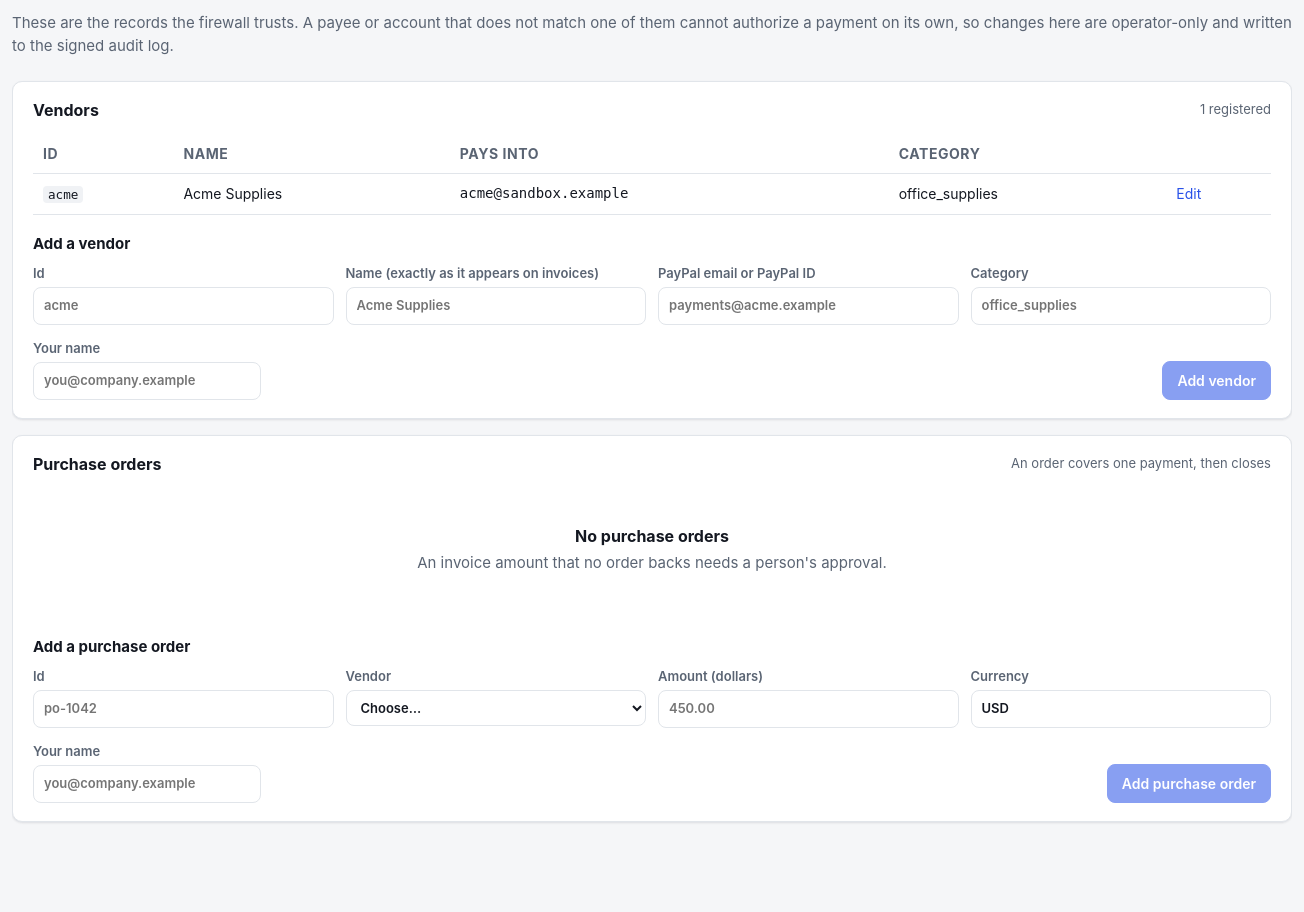
registry: changing where a vendor is paid is a deliberate step › a rejected change shows the server's reason
Expected: the cell "Acme Supplies" is shown, left=173, top=174, right=450, bottom=214
In the field with placeholder "acme" below "Name (exactly as it appears on invoices)": (183, 306) left=33, top=287, right=334, bottom=325, type "beta"
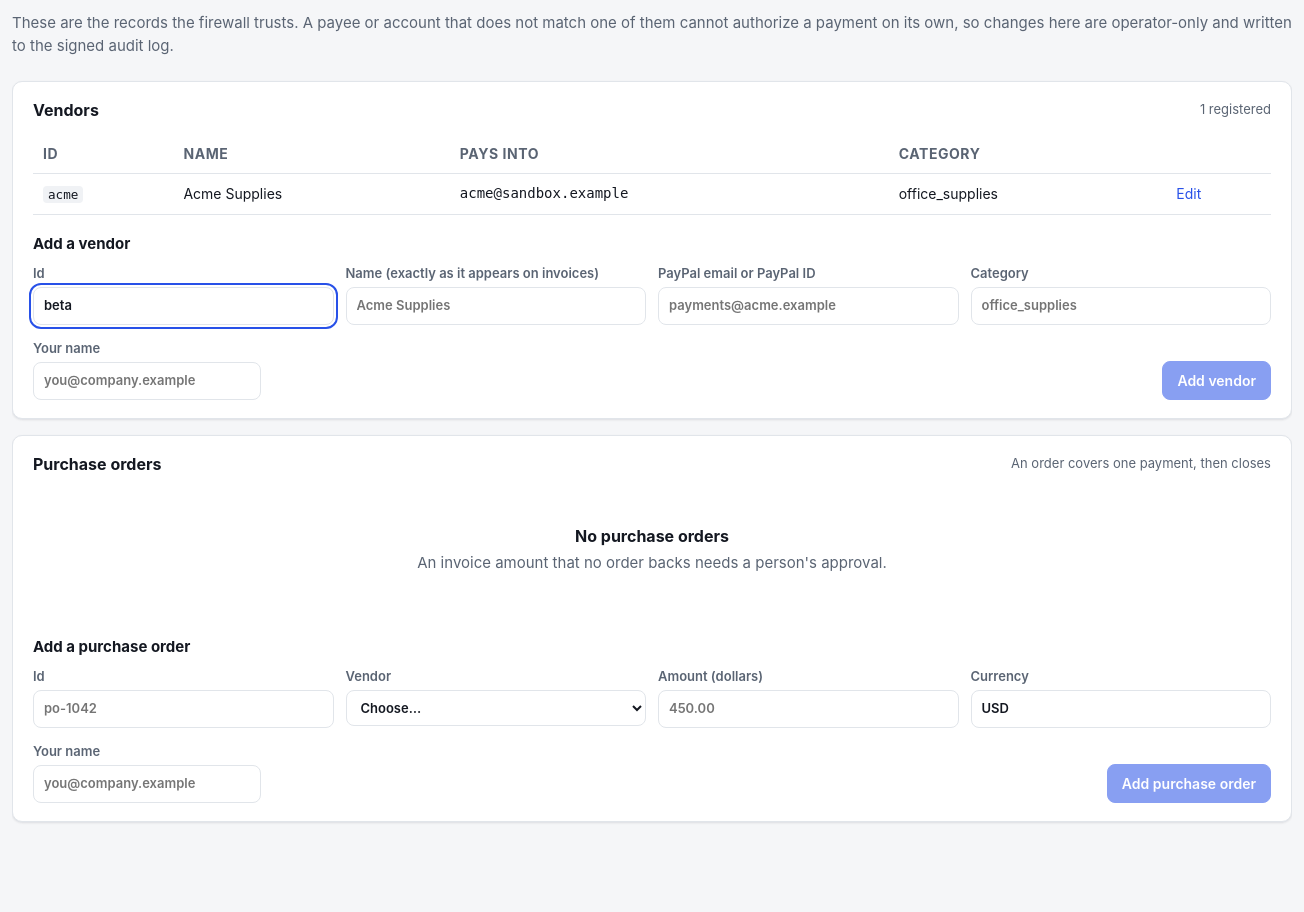
In the field with placeholder "Acme Supplies": (496, 306) left=346, top=287, right=646, bottom=325, type "Beta"
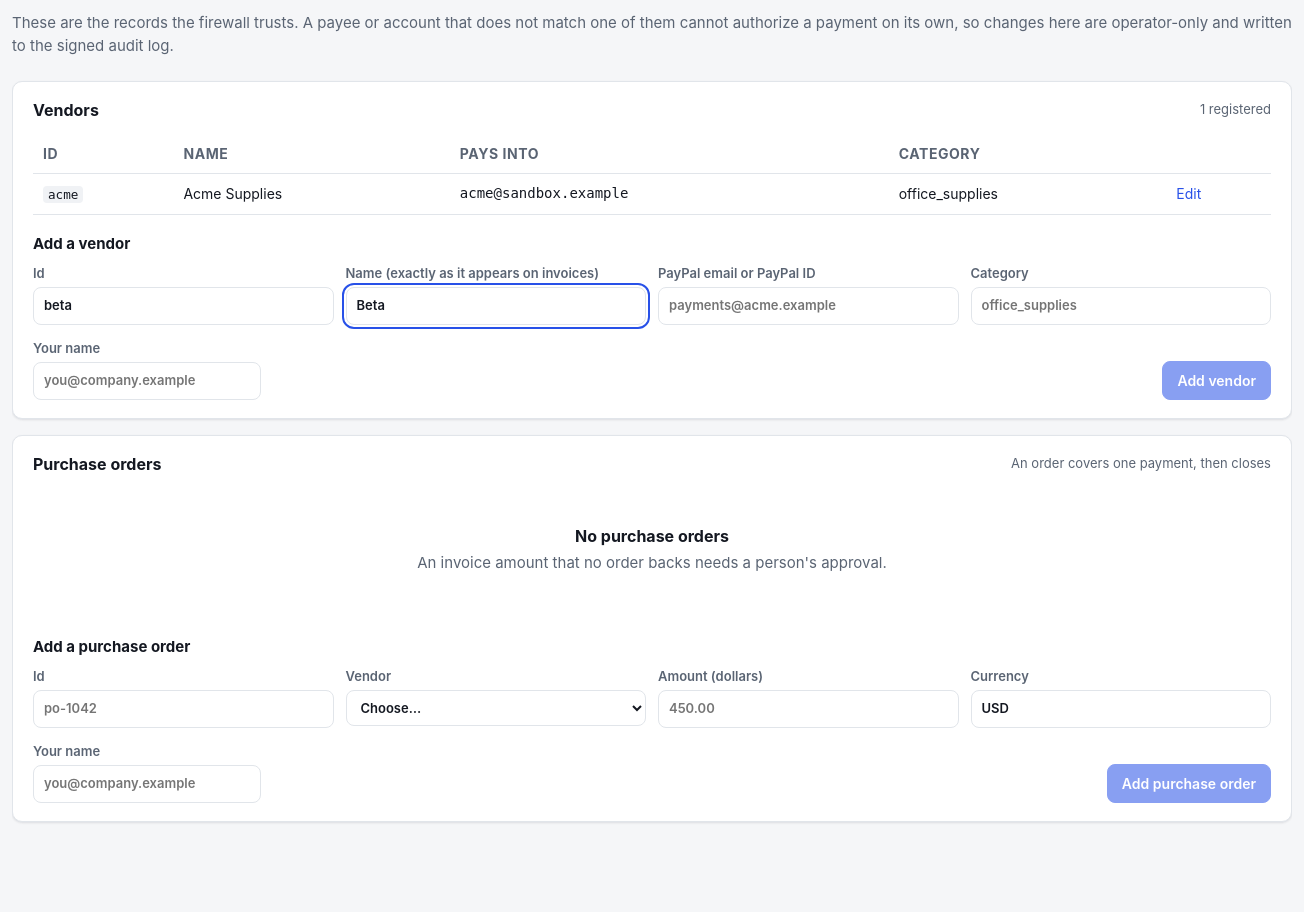
In the field with placeholder "payments@acme.example": (808, 306) left=658, top=287, right=958, bottom=325, type "nope"
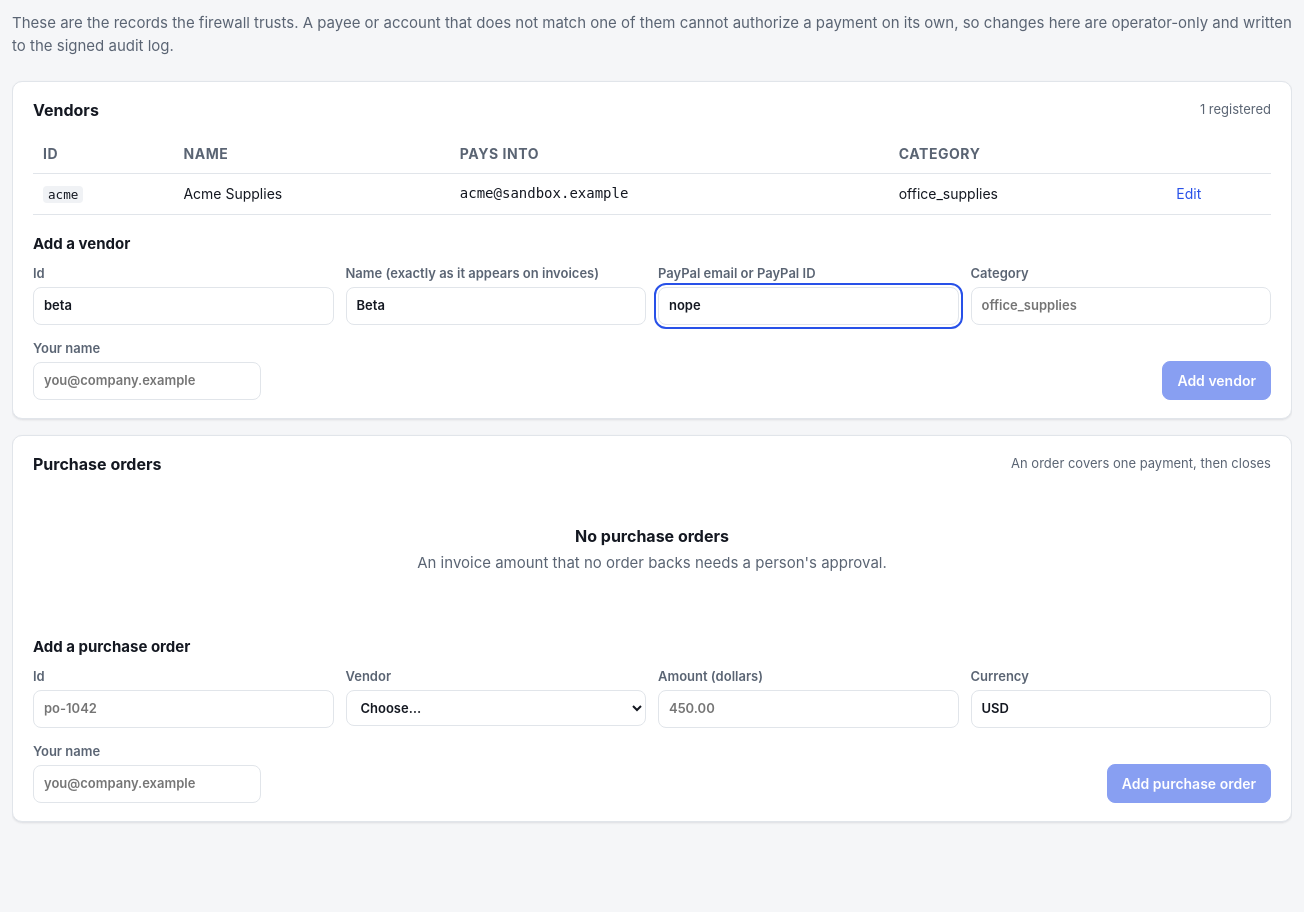
In the field with placeholder "office_supplies": (1121, 306) left=970, top=287, right=1271, bottom=325, type "software"
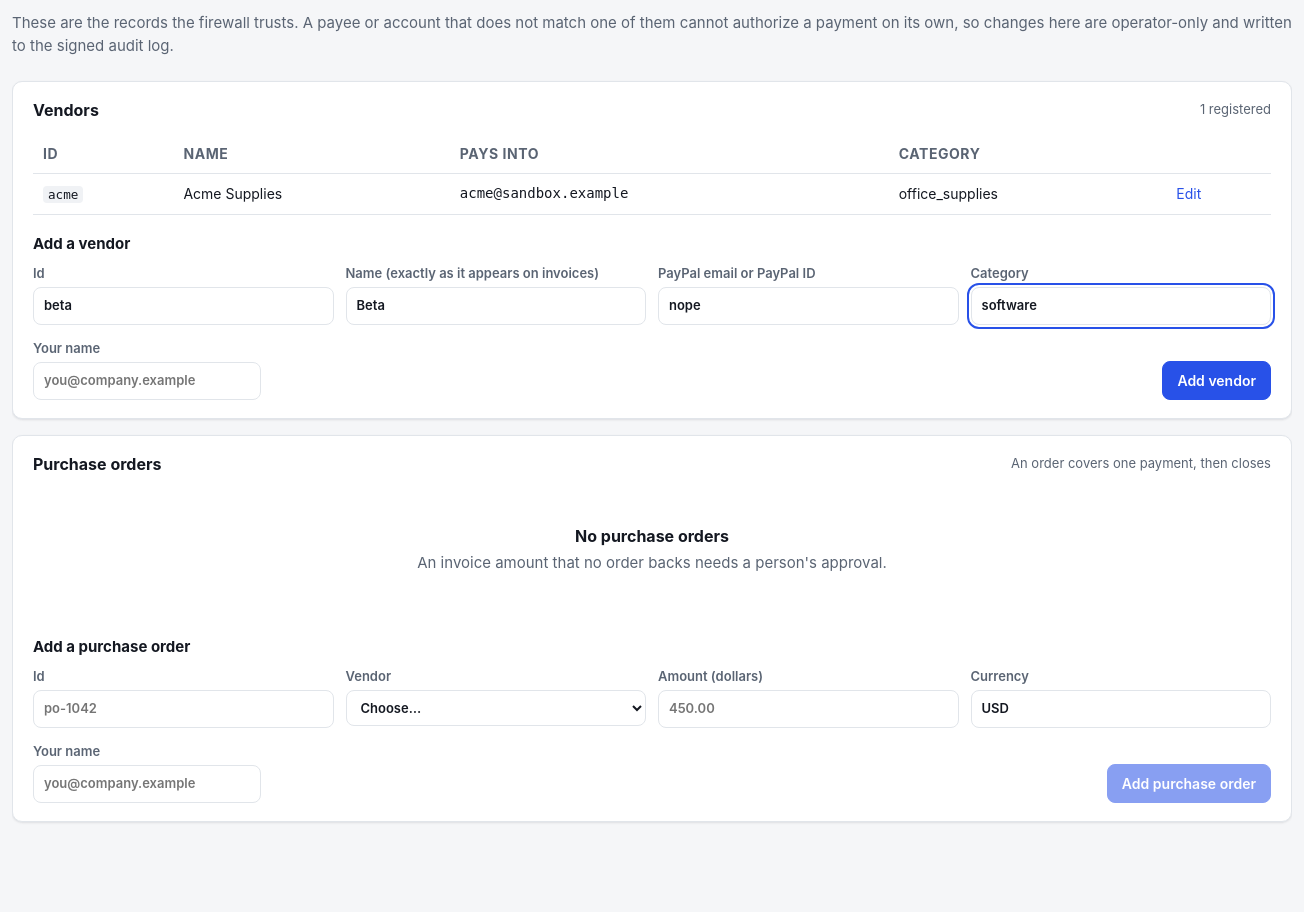
In the field with placeholder "you@company.example" below "Name (exactly as it appears on invoices)": (147, 381) left=33, top=362, right=261, bottom=400, type "dana"
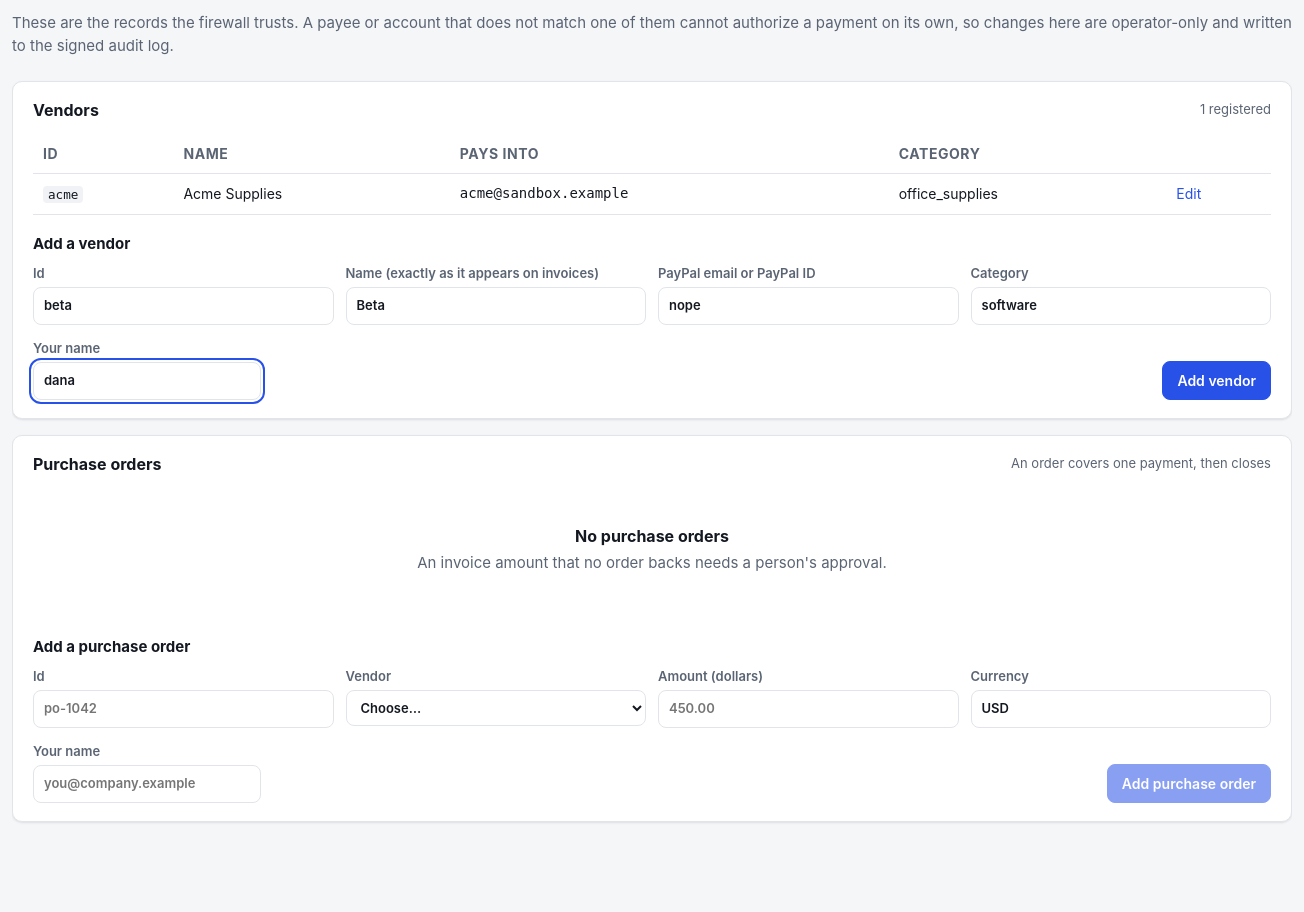
Click the button "Add vendor": (1217, 380) left=1162, top=361, right=1271, bottom=400
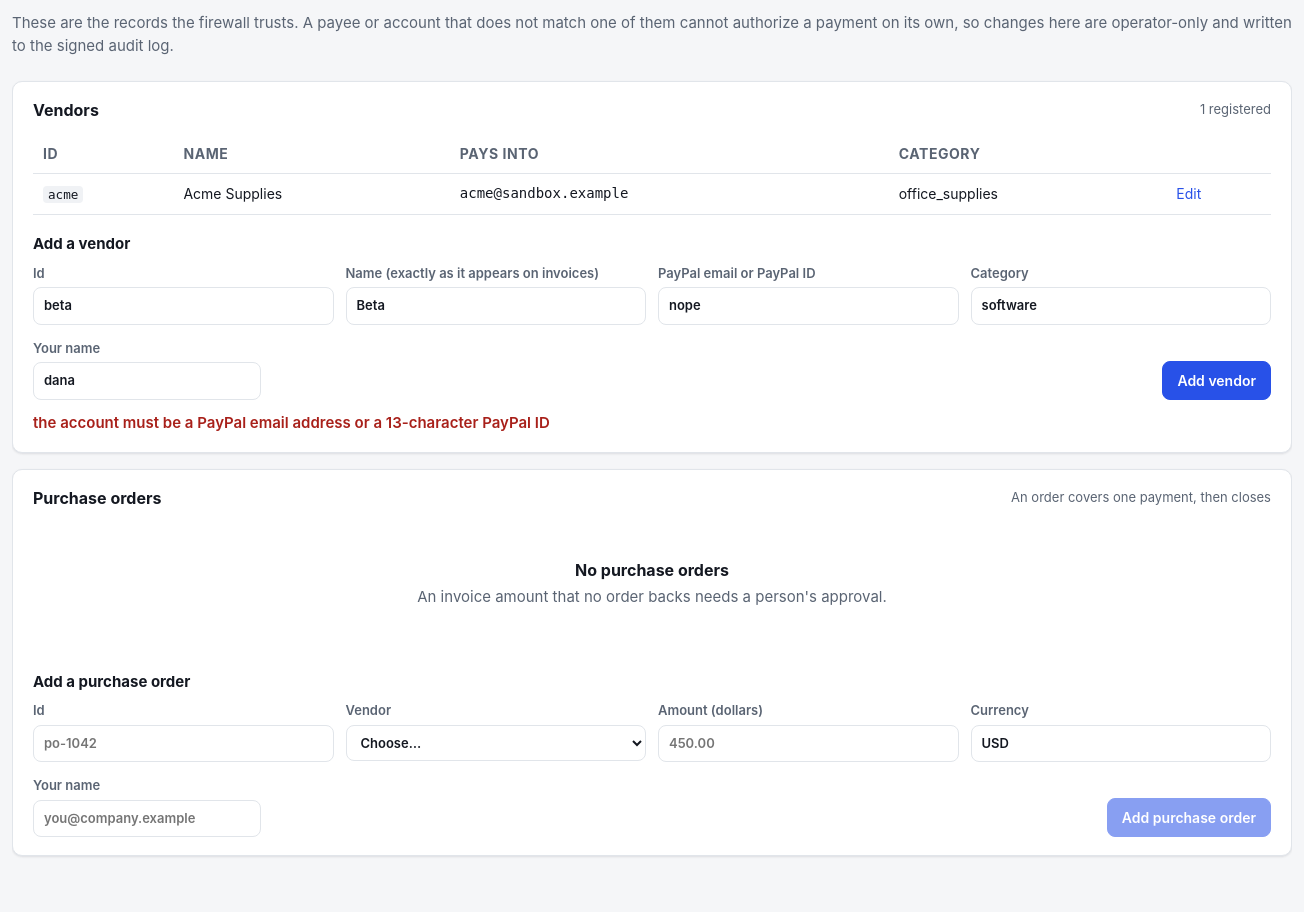
Now the text "the account must be a PayPal email address or a 13-character PayPal ID" is shown, box left=33, top=413, right=550, bottom=432
